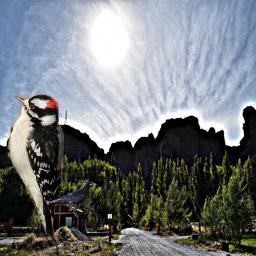Crow: (45, 181, 97, 218)
Woodpecker: (5, 94, 64, 243)
